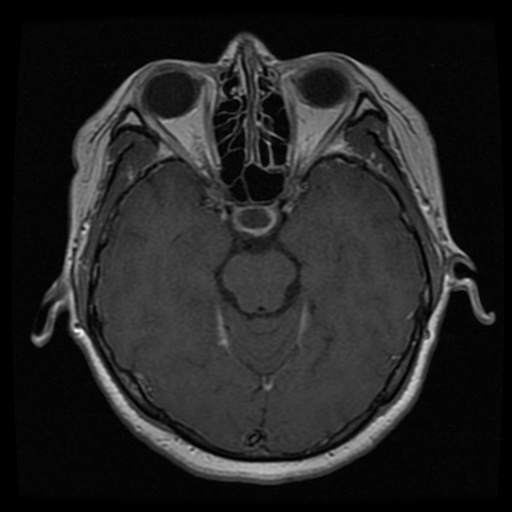pituitary: (227, 203, 282, 236)
